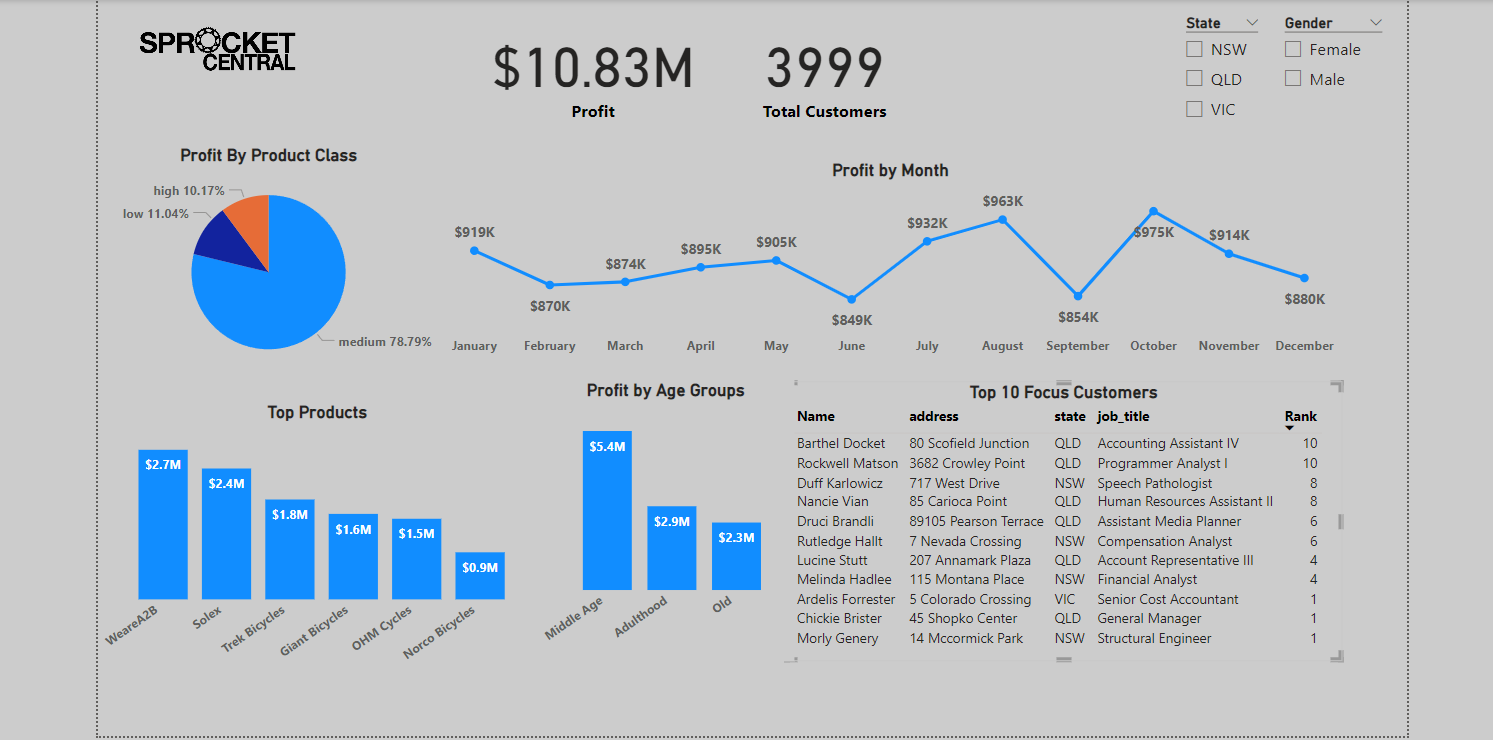

What the dashboard file says about the page in this screenshot:
{"tool":"powerbi","page":{"name":"Page 1","canvas":[1280,720],"ordinal":0},"visuals":[{"type":"image","box":[35.4,8.6,166.2,89.2],"z":0},{"type":"card","fields":{"Values":["Transactions.Profit"]},"box":[378.9,8.6,210.3,122.2],"z":1000},{"type":"tableEx","title":"Top 10 Focus Customers","fields":{"Values":["NewCustomerList.Name","NewCustomerList.address","NewCustomerList.state","NewCustomerList.job_title","NewCustomerList.Rank"]},"box":[672.3,372.8,544,273.8],"z":2000},{"type":"lineChart","fields":{"Category":["Transactions.transaction_date.Variation.Date Hierarchy.Month"],"Y":["Transactions.Profit"]},"box":[333.7,156.5,882.6,200.5],"z":3000},{"type":"card","fields":{"Values":["CustomerAddress.customer_id"]},"box":[601.4,8.6,218.8,122.2],"z":4000},{"type":"columnChart","title":"Profit by Age Groups ","fields":{"Y":["Transactions.Profit"],"Category":["CustomerDemographic.Age brackets "]},"box":[428.9,371.1,252.2,275.6],"z":5000},{"type":"slicer","fields":{"Values":["CustomerAddress.state"]},"box":[1051.3,8.6,96.6,122.2],"z":6000},{"type":"slicer","fields":{"Values":["CustomerDemographic.gender"]},"box":[1147.8,8.6,121,113.7],"z":7000},{"type":"columnChart","title":"Top Products","fields":{"Category":["Transactions.brand"],"Y":["Transactions.Profit"]},"box":[0,392.4,429.1,273.8],"z":8000},{"type":"pieChart","title":"Profit By Product Class","fields":{"Category":["Transactions.product_class"],"Y":["Transactions.Profit"]},"box":[0,141.8,333.7,229.8],"z":9000}]}

Visuals, with their boxes on the page's 1280x720 design canvas (x1, y1, x2, y2). These are canvas units, not pixel positions in the 1493x740 screenshot, which may show the page scaled, cropped or inside an application window:
image: detection(35, 9, 202, 98)
card - Transactions.Profit: detection(379, 9, 589, 131)
"Top 10 Focus Customers" tableEx: detection(672, 373, 1216, 647)
lineChart - Transactions.transaction_date.Variation.Date Hierarchy.Month x Transactions.Profit: detection(334, 156, 1216, 357)
card - CustomerAddress.customer_id: detection(601, 9, 820, 131)
"Profit by Age Groups " columnChart: detection(429, 371, 681, 647)
slicer - CustomerAddress.state: detection(1051, 9, 1148, 131)
slicer - CustomerDemographic.gender: detection(1148, 9, 1269, 122)
"Top Products" columnChart: detection(0, 392, 429, 666)
"Profit By Product Class" pieChart: detection(0, 142, 334, 372)
